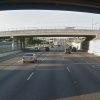Bridge: (1, 19, 97, 50)
